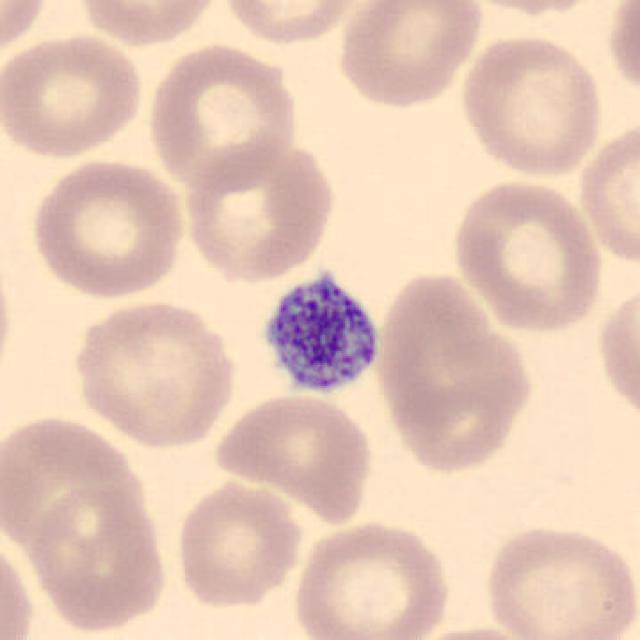Platelets: (249, 266, 386, 400)
RBC: (370, 264, 537, 480), (68, 296, 240, 450), (448, 175, 606, 335), (142, 39, 302, 192), (25, 155, 188, 302), (180, 137, 340, 284), (210, 388, 377, 524), (25, 482, 172, 636), (457, 30, 606, 180), (0, 409, 146, 557), (288, 516, 455, 640), (2, 28, 148, 162), (478, 520, 638, 640), (170, 476, 306, 612), (333, 0, 487, 111), (574, 113, 638, 268), (71, 0, 225, 49), (218, 0, 369, 48), (594, 277, 638, 430), (0, 529, 39, 640), (604, 0, 640, 108), (0, 0, 52, 62), (452, 0, 615, 18), (0, 236, 18, 398), (394, 622, 548, 640)
